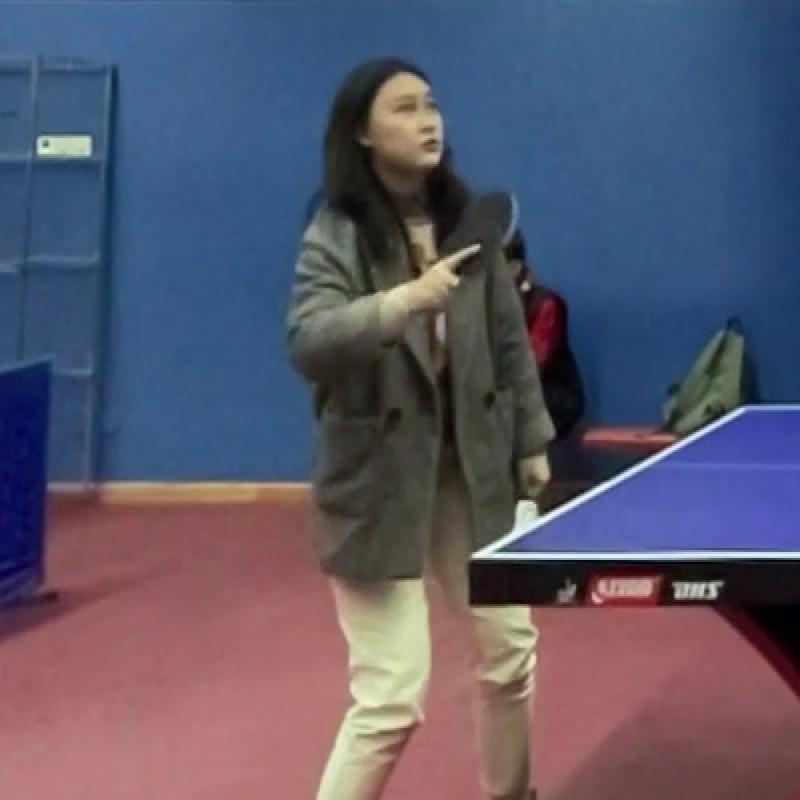bats: (454, 179, 540, 286)
